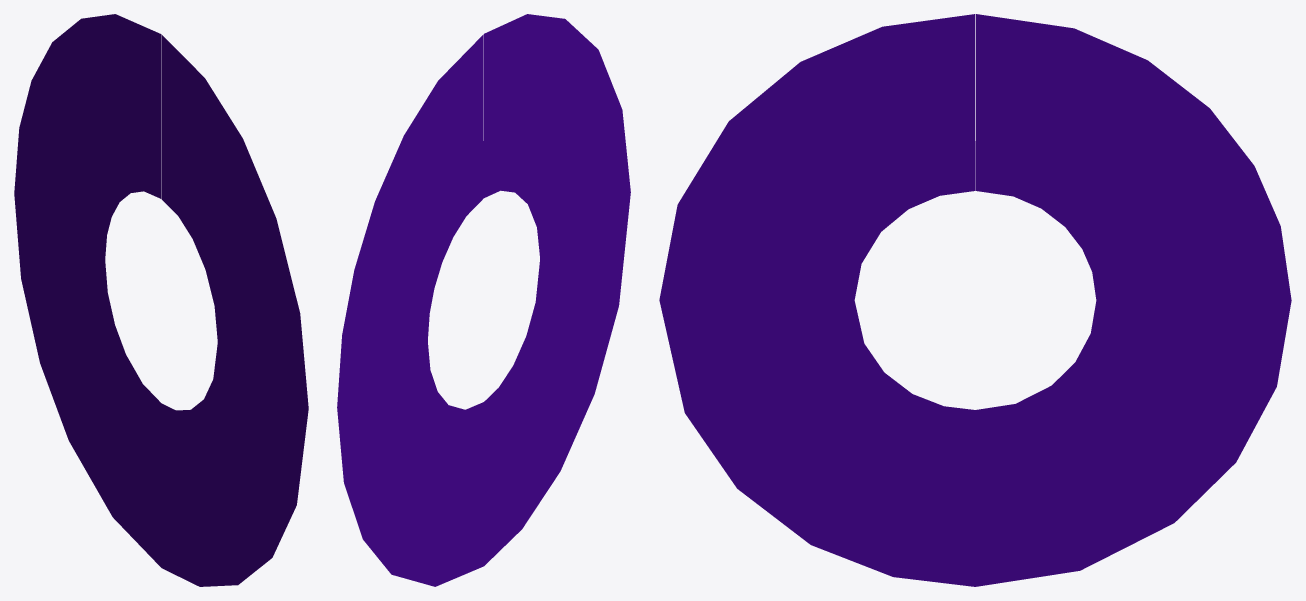
File: S_Ironworks_09.fbx
3 renders of one model, left to right at view 1: azimuth 30°, elevation 25°; view 2: azimuth 150°, elevation 25°; view 3: azimuth 270°, elevation 25°, orthographic. The views are drawn at different scales.
Visible parts, largest first — view 1: S_Ironworks_09; view 2: S_Ironworks_09; view 3: S_Ironworks_09.
Part boxes in pixels (x1,y1,x2,y2): S_Ironworks_09: [14, 14, 308, 586]; S_Ironworks_09: [337, 14, 630, 586]; S_Ironworks_09: [659, 14, 1291, 586].
Bounding box in the file's own units: 0.000244 × 258 × 258.
